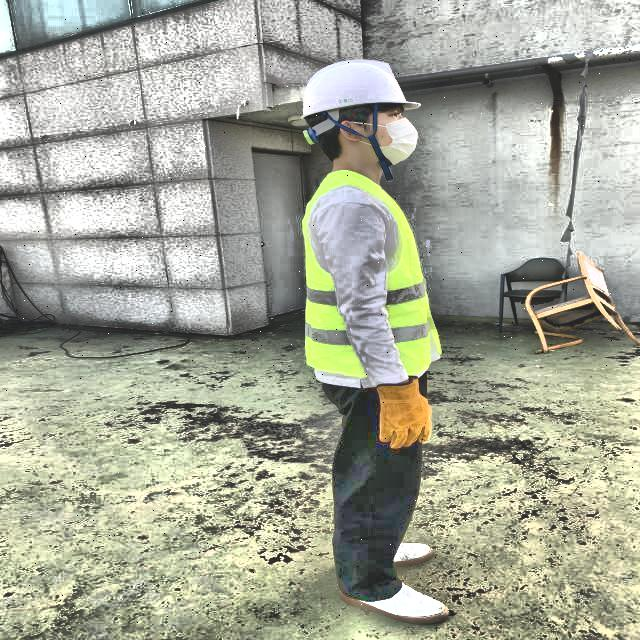gloved: (377, 376, 433, 449)
